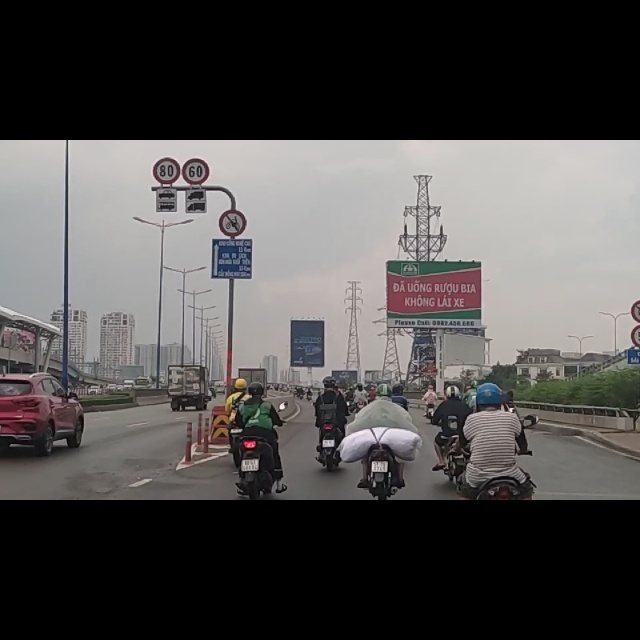bien_cam: (218, 121, 247, 178), (154, 31, 180, 81), (183, 31, 209, 78)
